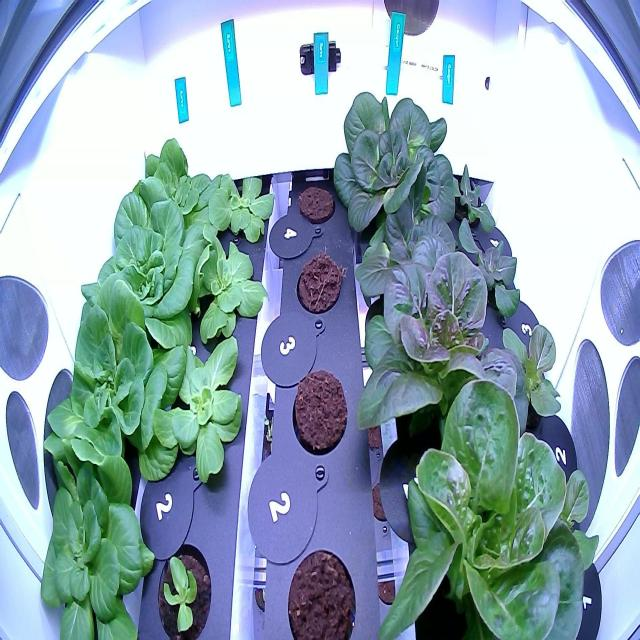pod: (282, 540, 358, 640), (287, 358, 350, 462), (291, 245, 346, 319), (290, 174, 340, 226)
young: (361, 370, 589, 640), (340, 234, 541, 452), (35, 273, 188, 483), (75, 179, 211, 357), (34, 450, 158, 640), (326, 76, 466, 240), (144, 331, 259, 495), (349, 194, 492, 314), (122, 132, 228, 242), (182, 235, 272, 350), (450, 216, 530, 330), (533, 458, 603, 586), (488, 310, 564, 426), (153, 533, 215, 639), (208, 167, 278, 250), (440, 154, 502, 242)
